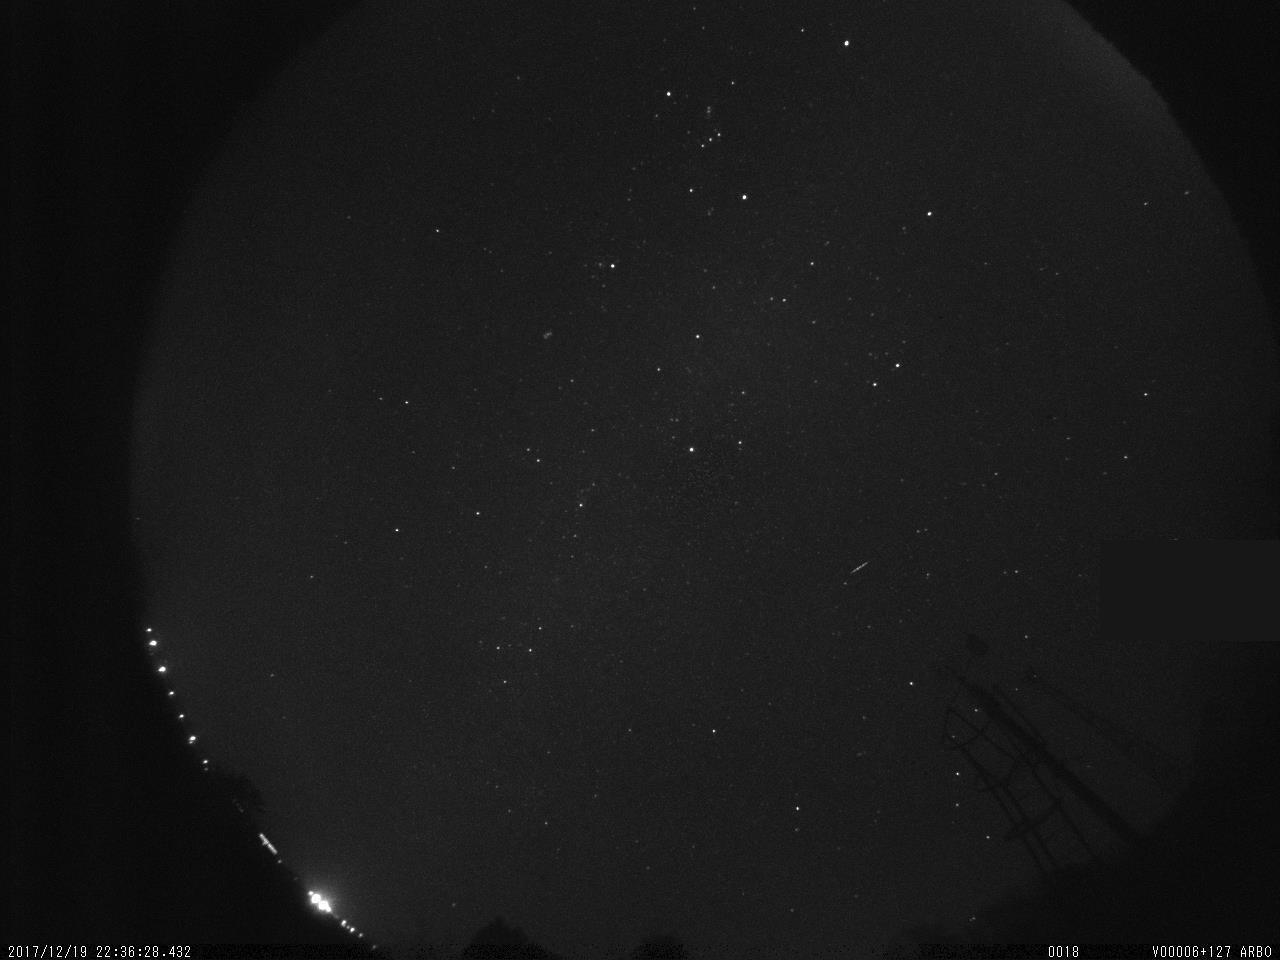Meteor: (845, 556, 877, 581)
